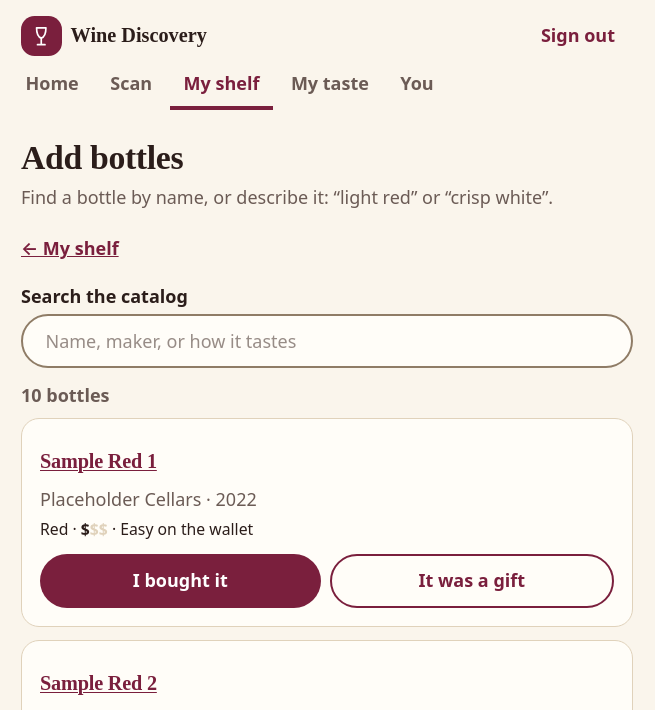
it: My shelf › searches by name or description, adds a bottle as bought or gift, and shows it on the shelf
Type "light red" into the search field labelled "Search the catalog".
click(327, 341); type("light red")  # box [21, 314, 633, 368]
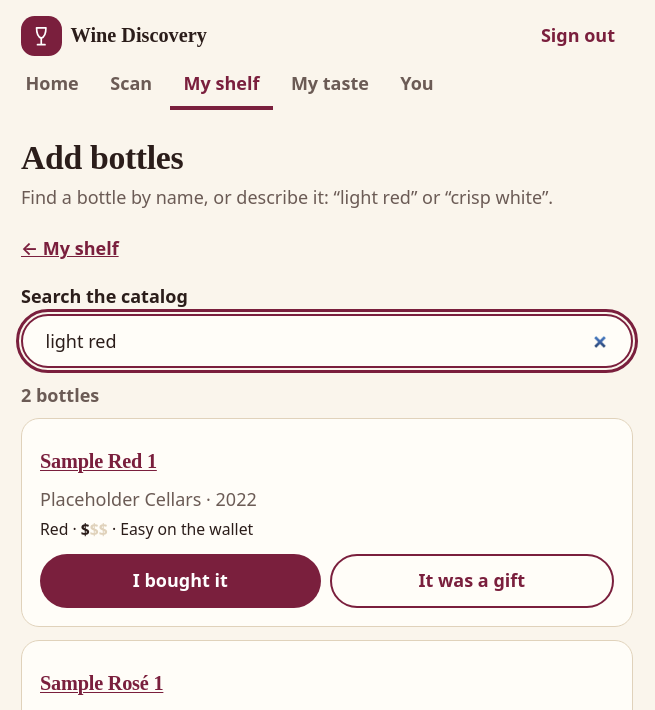
Check: the link "Sample Red 1" is shown, box [40, 450, 157, 472]
Check: the text "2 bottles" is shown, box [21, 383, 99, 407]
Click the button "I bought it".
click(180, 581)  # box [40, 554, 320, 608]
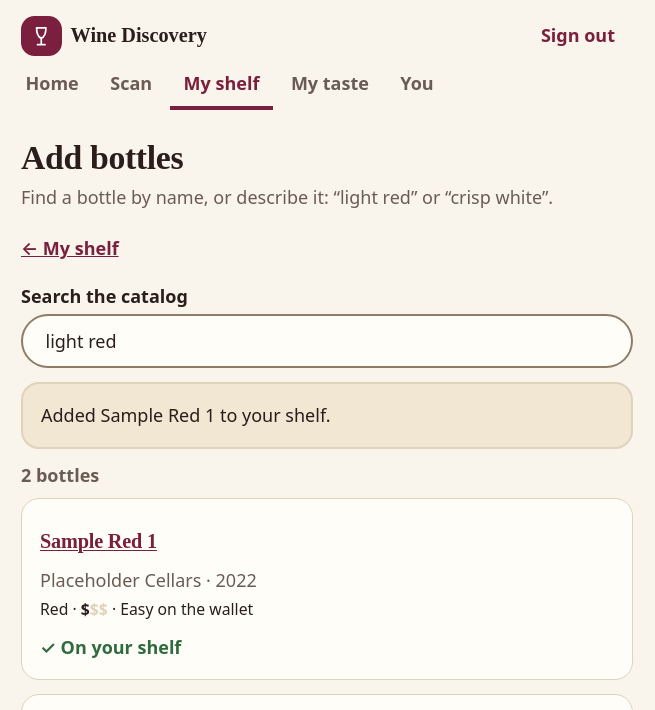
Check: the button "I bought it" is not shown
Check: the text "Added Sample Red 1 to your shelf." is shown, box [41, 403, 330, 427]
Check: the text "On your shelf" is shown, box [61, 635, 181, 659]
Replace the text in the search field labelled "Search the catalog" with "bubbly" at [327, 341], box [21, 314, 633, 368]
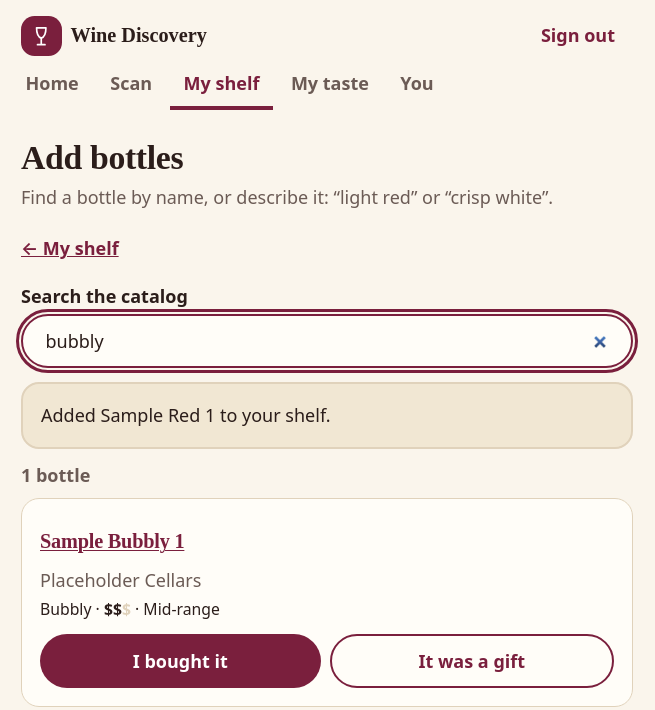
Click the button "It was a gift".
click(472, 661)  # box [330, 634, 614, 688]
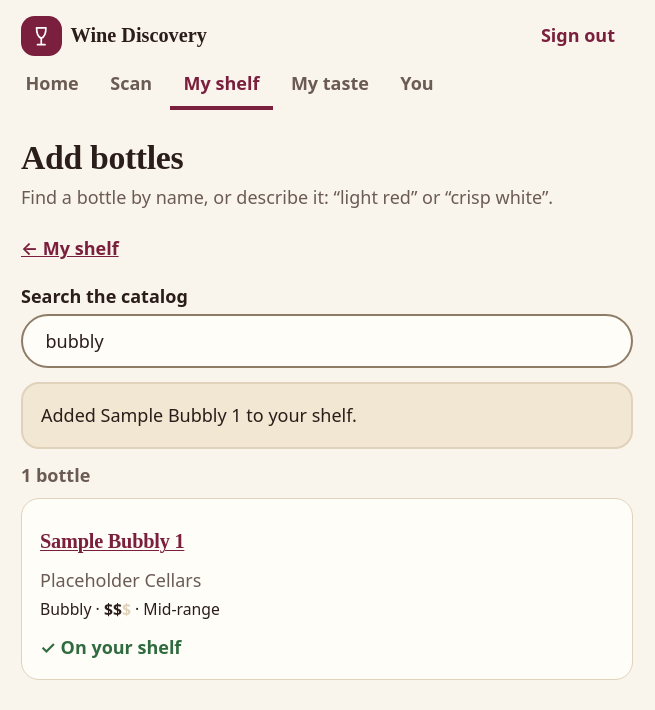
Check: the text "Added Sample Bubbly 1 to your shelf." is shown, box [41, 403, 357, 427]
Click the link "← My shelf".
click(70, 248)  # box [21, 236, 119, 260]
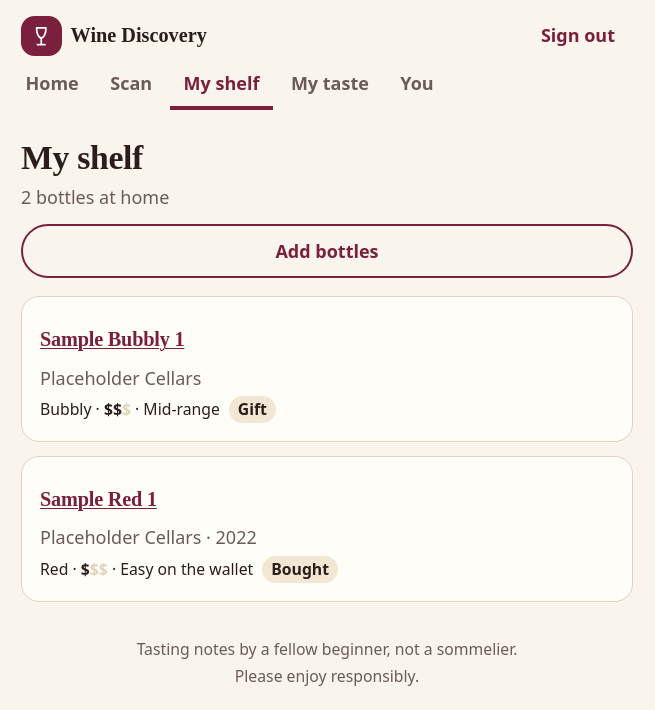
Check: the text "2 bottles at home" is shown, box [21, 185, 169, 209]
Check: the list item that starts with "Sample Bubbly 1" is shown, box [40, 315, 184, 365]
Check: the list item that starts with "Sample Bubbly 1" shows "Gift", box [238, 398, 267, 420]
